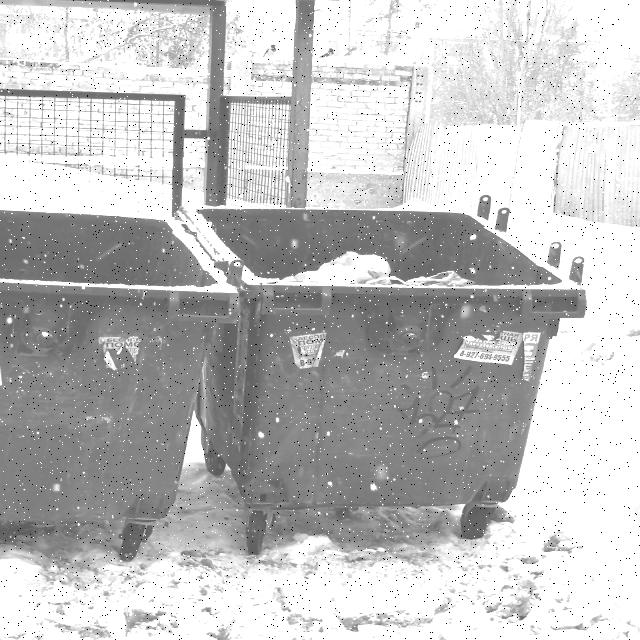Trashcan: (173, 172, 592, 574)
